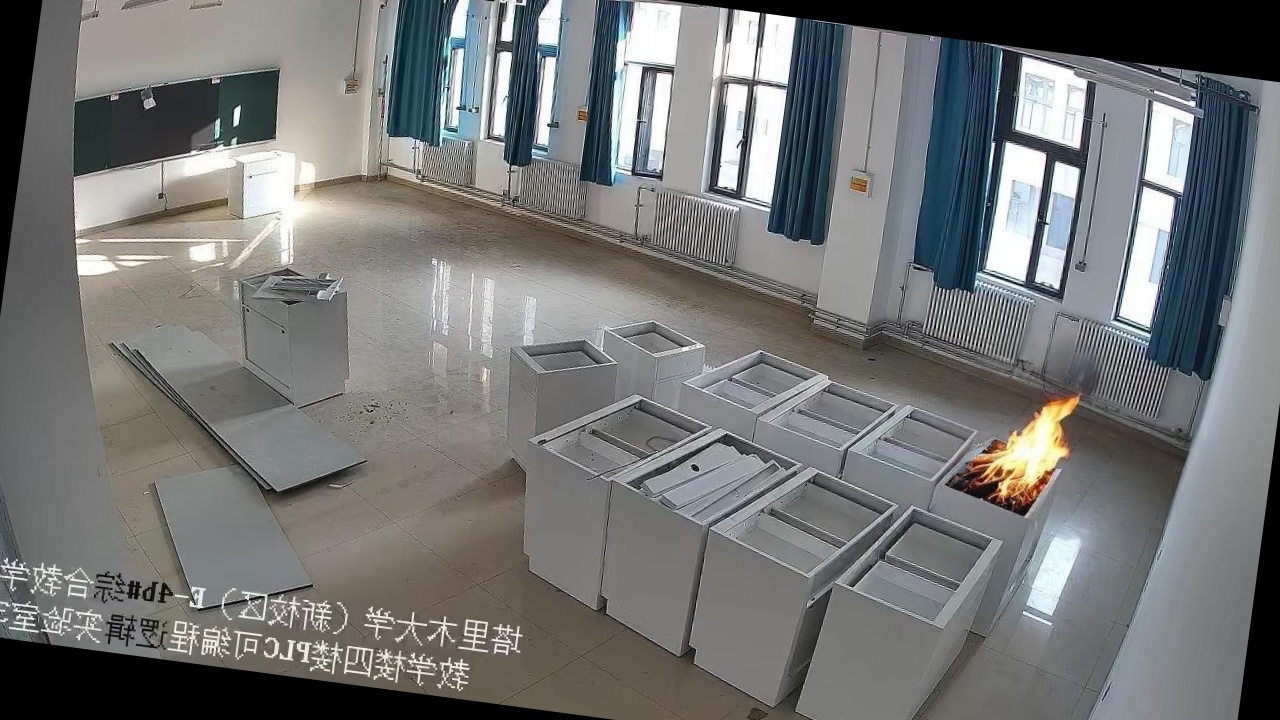fire: (907, 363, 1103, 536)
